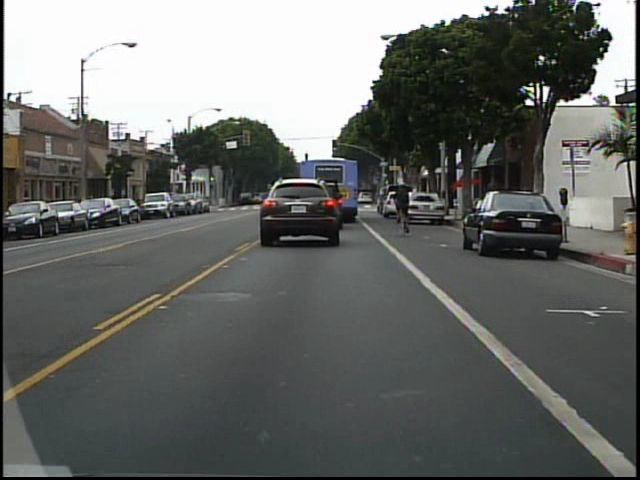person: (392, 178, 415, 235)
